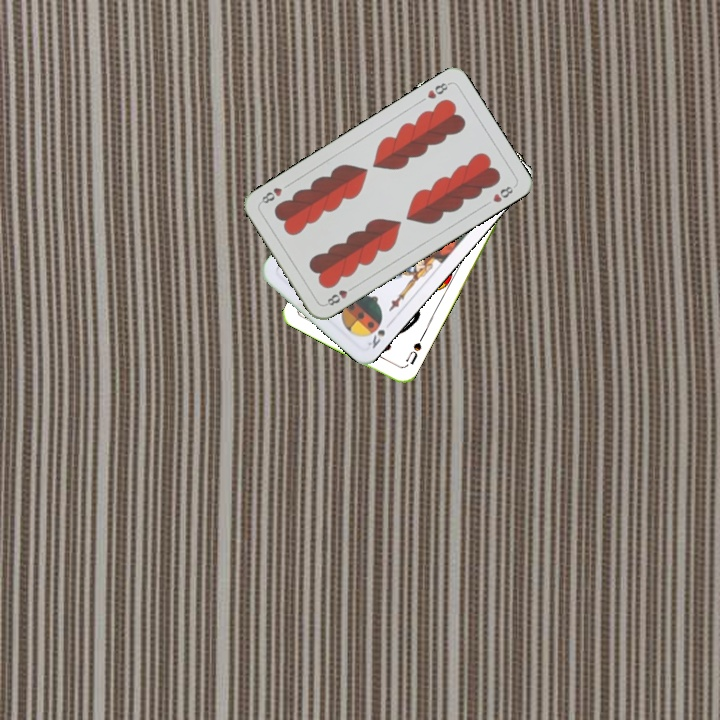H8: (321, 282, 358, 308), (423, 78, 453, 102)
SK: (363, 325, 388, 351)
SU: (402, 332, 426, 367)
